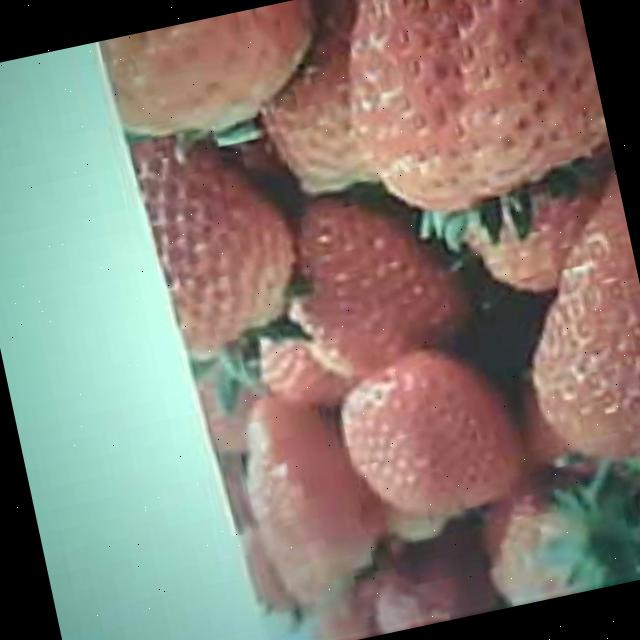strawberry: (326, 0, 613, 226), (331, 340, 527, 532)
